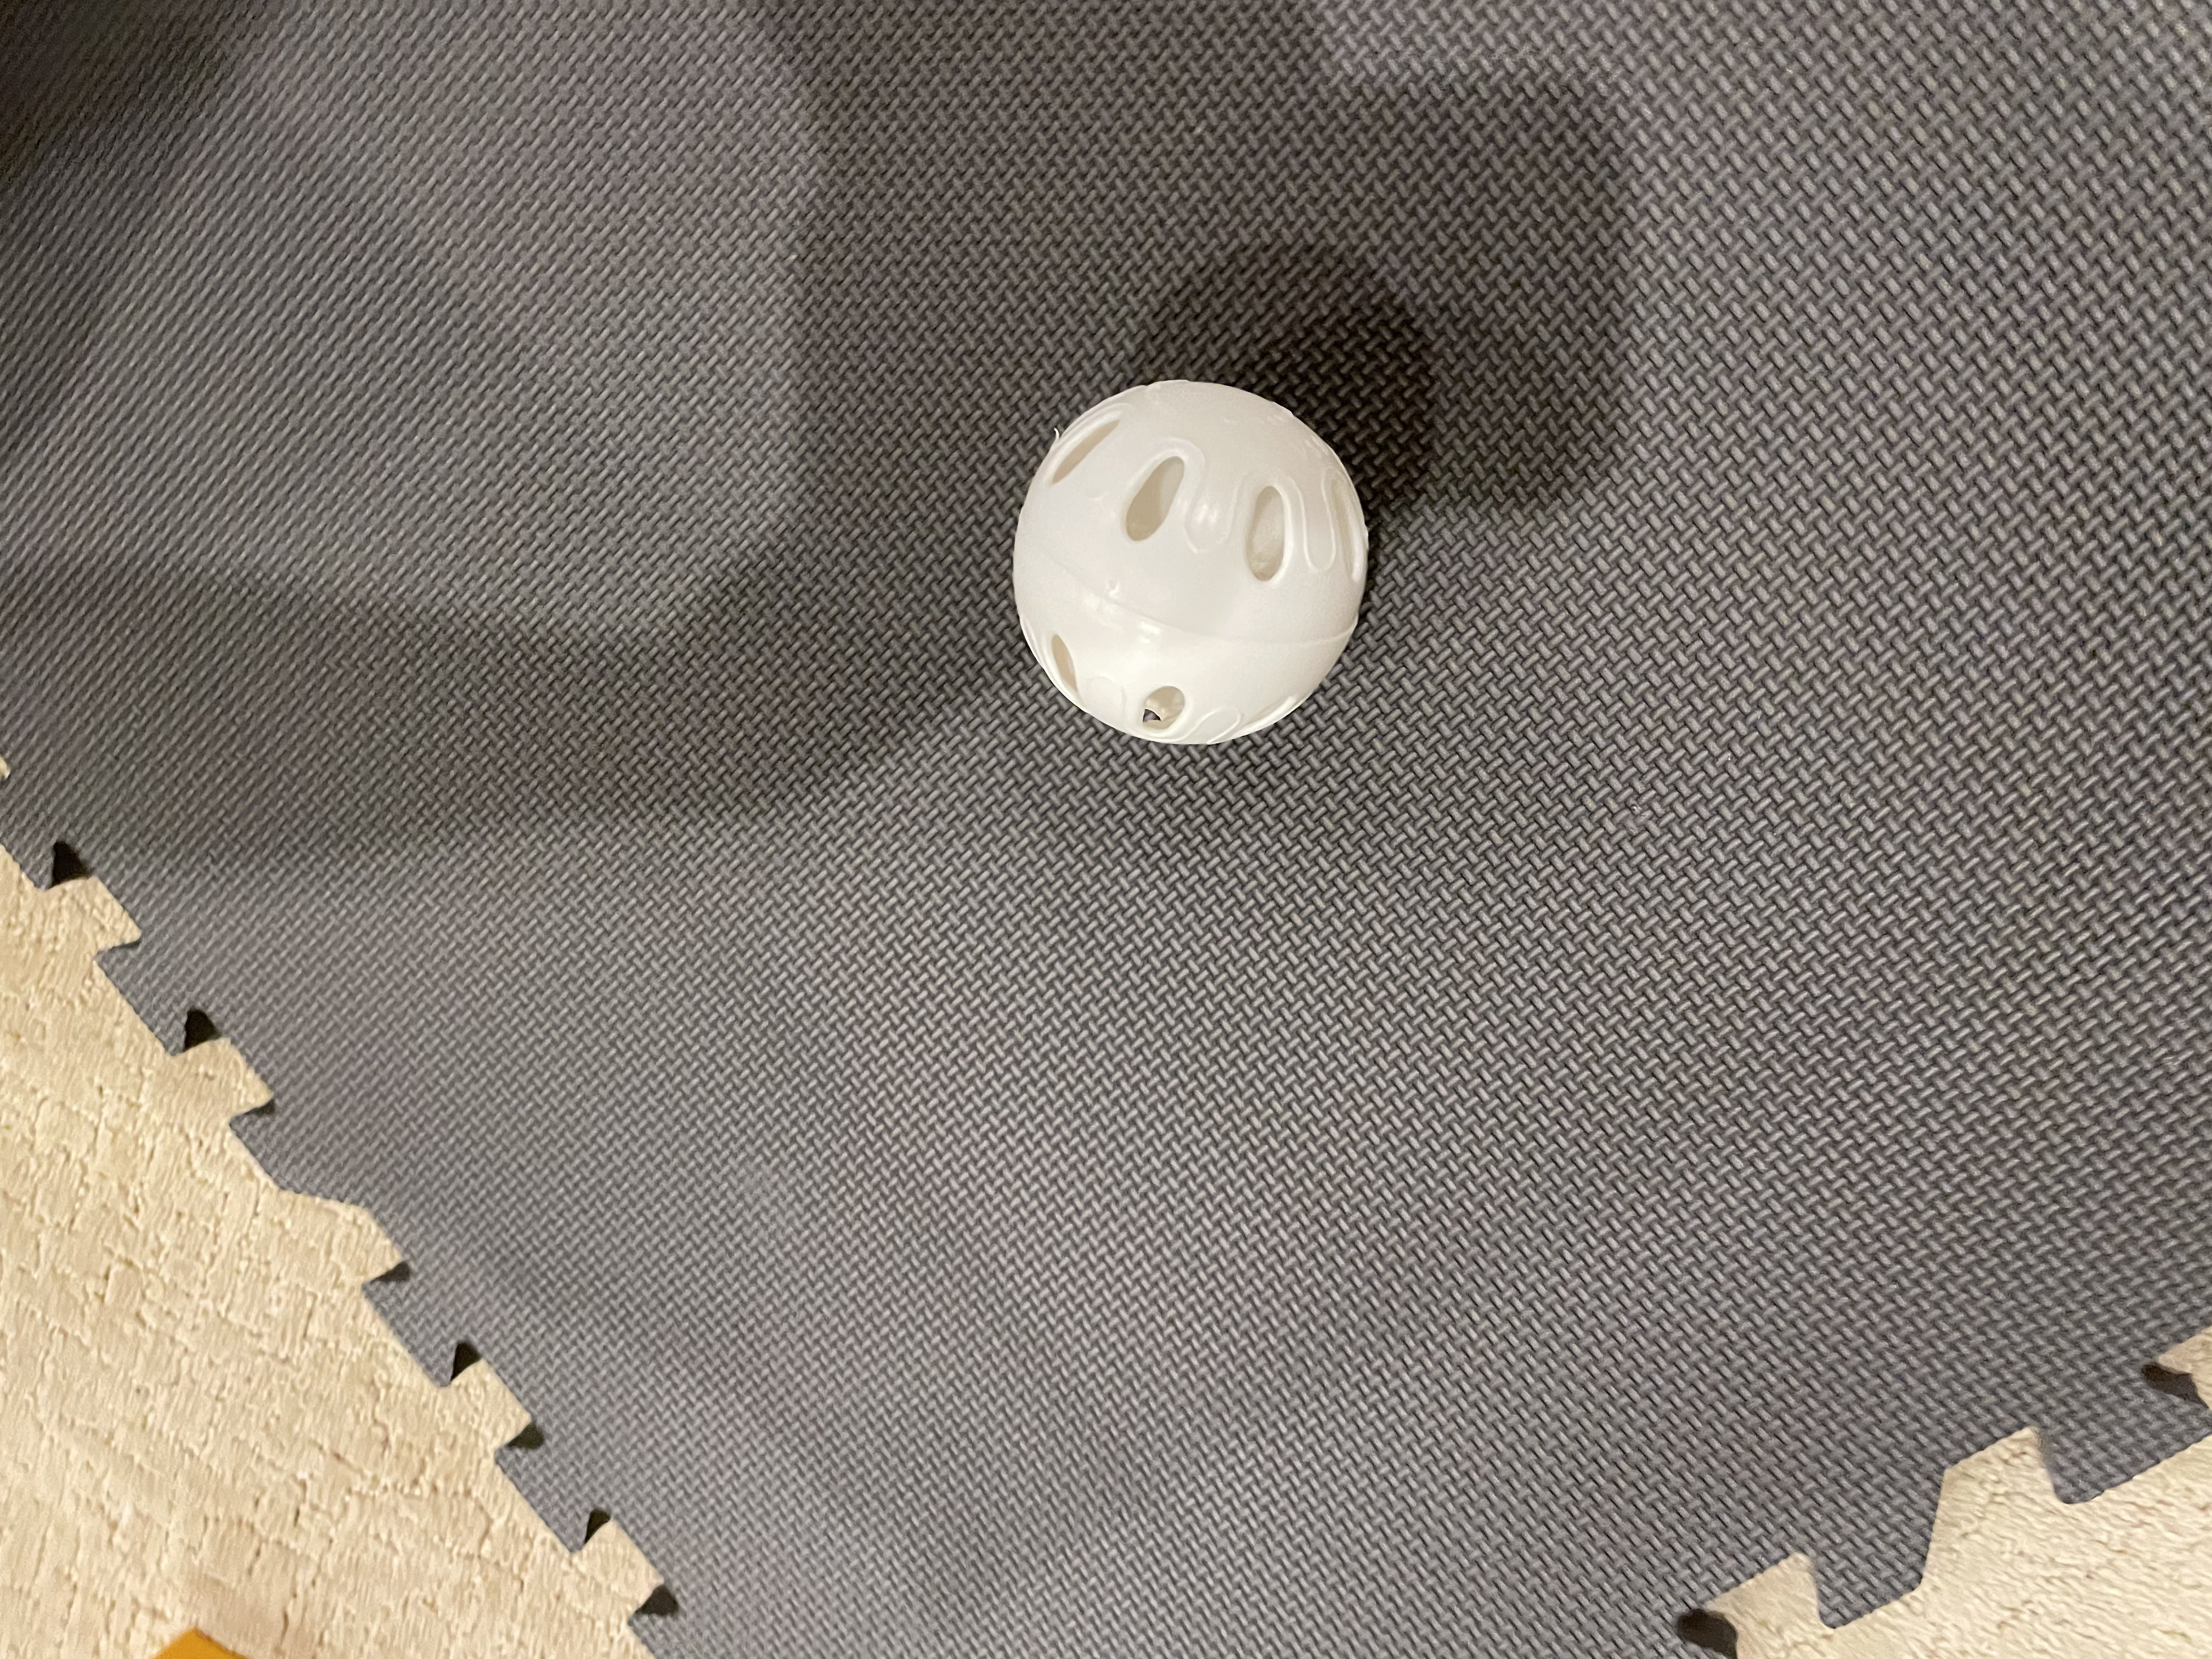ball: (954, 328, 1399, 770)
